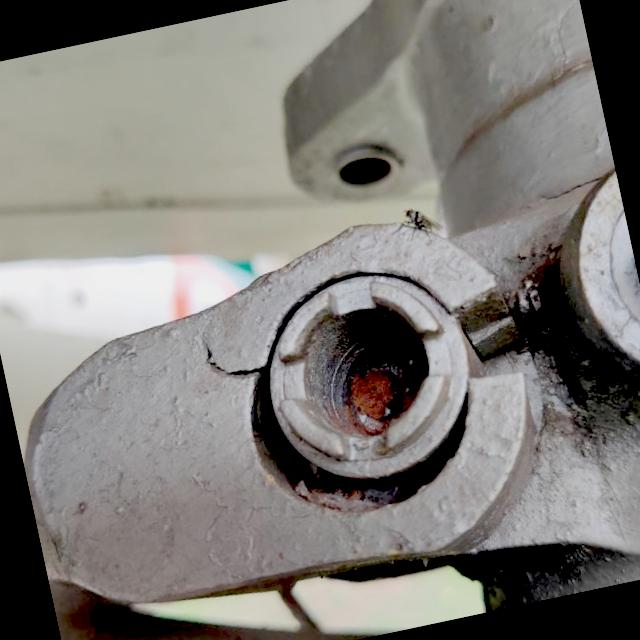crack: (192, 324, 268, 388)
